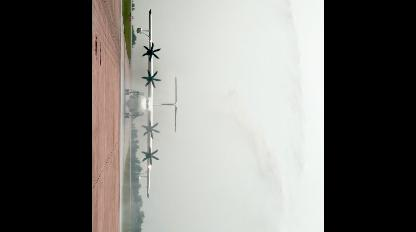AG600: (124, 7, 178, 197)
